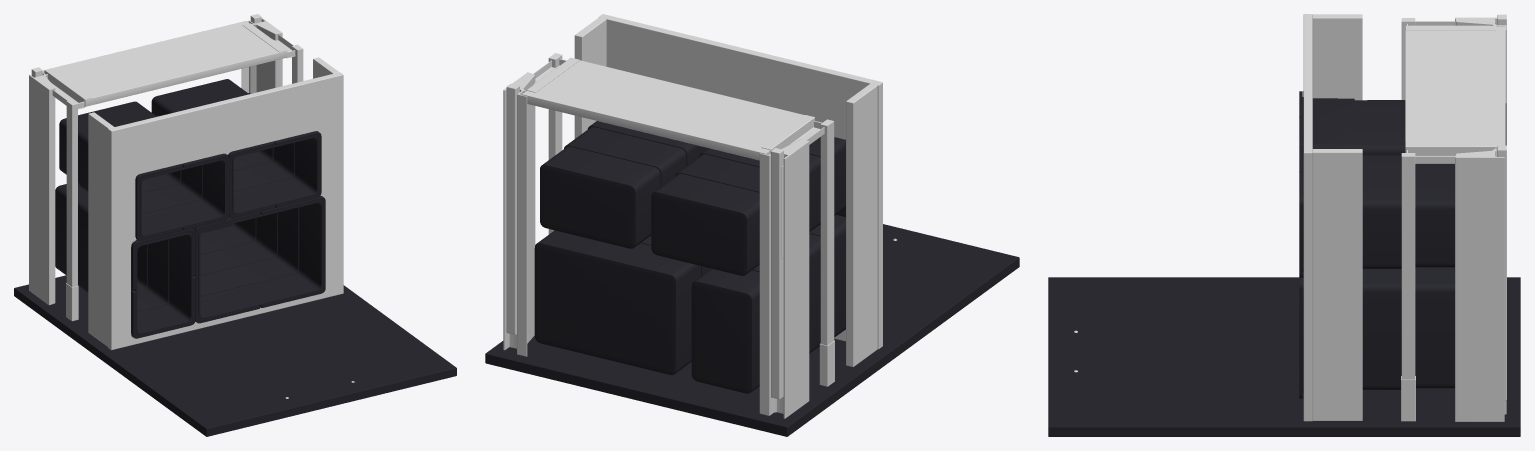
The model's file is SM_Kitchen_08_Sink_Drawer_01.obj.
3 views of the same model, side by side, from view 1: azimuth 30°, elevation 25°; view 2: azimuth 150°, elevation 25°; view 3: azimuth 270°, elevation 25° (orthographic). The views are drawn at different scales.
Parts seen in each view (by area): view 1: SM_Kitchen_08_Sink_Drawer_01; view 2: SM_Kitchen_08_Sink_Drawer_01; view 3: SM_Kitchen_08_Sink_Drawer_01.
Boxes of the visible parts, <box> form: SM_Kitchen_08_Sink_Drawer_01: <box>14,14,456,436</box>; SM_Kitchen_08_Sink_Drawer_01: <box>485,14,1019,436</box>; SM_Kitchen_08_Sink_Drawer_01: <box>1048,14,1520,436</box>.
Size of the model in its own units: 0.5969 by 0.5199 by 0.7949.
